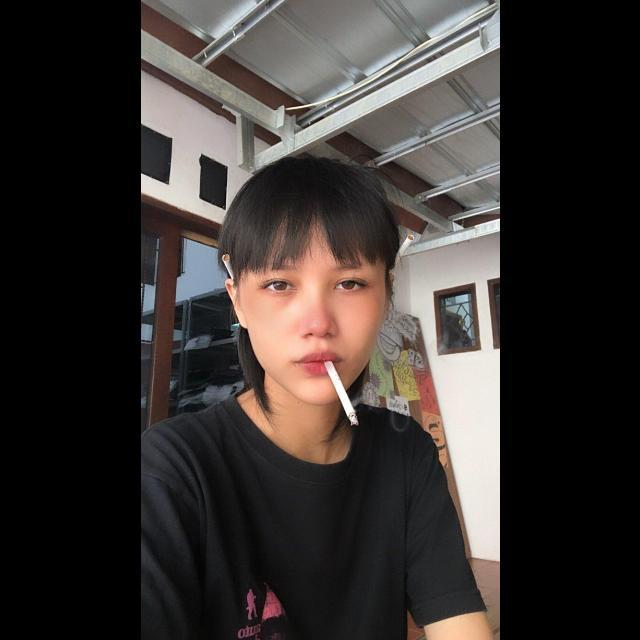rokok: (313, 348, 362, 426)
